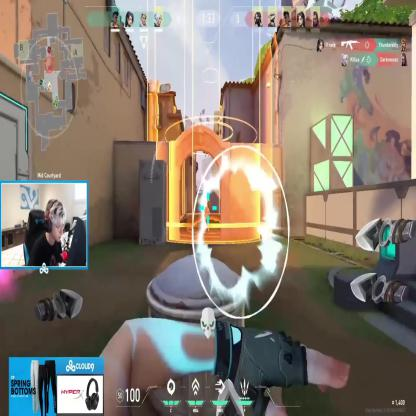enemy: (204, 202, 210, 232)
enemy_head: (205, 204, 208, 210)
